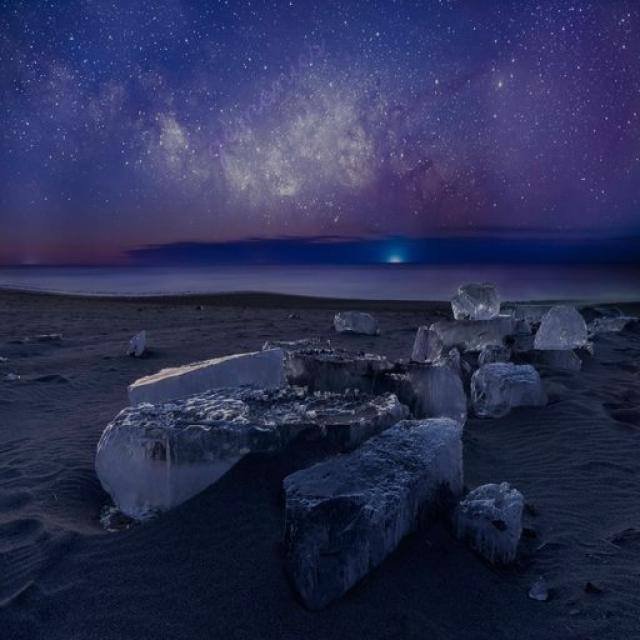watermark: (204, 13, 326, 166)
